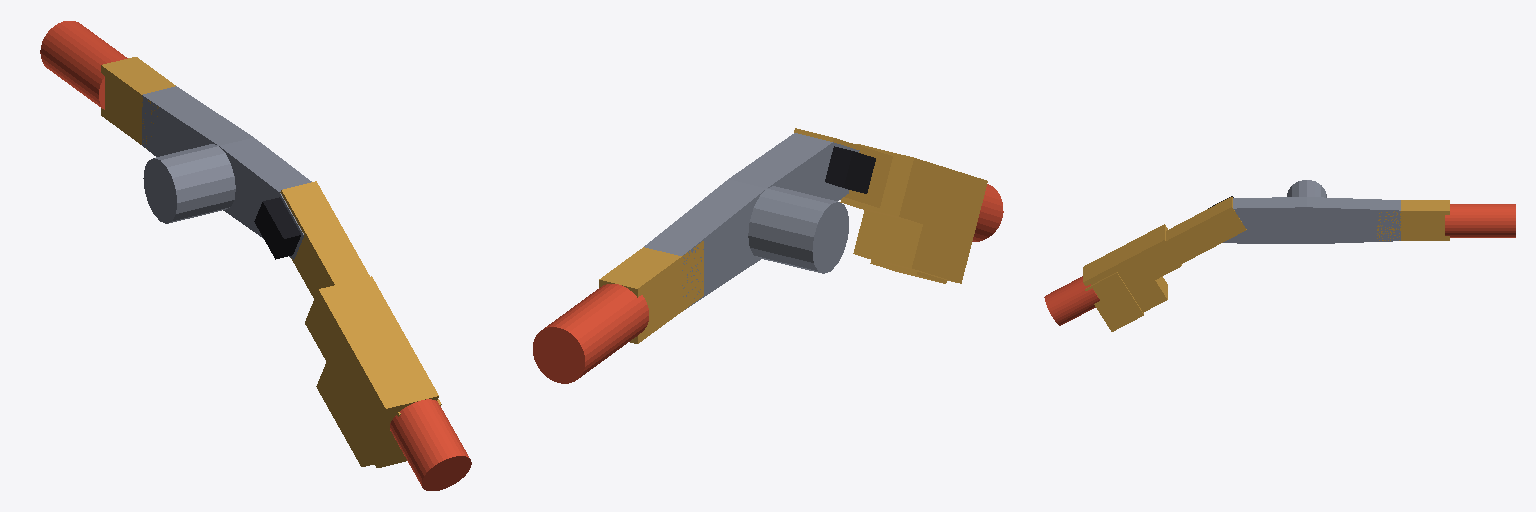
robot.urdf — g0072_c07:
<robot name="g0072_c07">
  <link name="palm">
    <visual name="palm_palm1">
      <origin xyz="0 0 0" rpy="0 0 0" />
      <geometry>
        <mesh filename="palm_palm1.obj" />
      </geometry>
      <material name="palm_palm1_mat">
        <color rgba="0.55 0.57 0.62 1" />
      </material>
    </visual>
    <collision>
      <origin xyz="0 0 0" rpy="0 0 0" />
      <geometry>
        <mesh filename="palm_palm1.obj" />
      </geometry>
    </collision>
    <visual name="palm_mount2">
      <origin xyz="0 0 0" rpy="0 0 0" />
      <geometry>
        <mesh filename="palm_mount2.obj" />
      </geometry>
      <material name="palm_mount2_mat">
        <color rgba="0.55 0.57 0.62 1" />
      </material>
    </visual>
    <collision>
      <origin xyz="0 0 0" rpy="0 0 0" />
      <geometry>
        <mesh filename="palm_mount2.obj" />
      </geometry>
    </collision>
    <visual name="palm_motor3">
      <origin xyz="-0.007 -0.08 0" rpy="3.14159265 0.523598776 -1.57079633" />
      <geometry>
        <box size="0.029 0.034 0.02" />
      </geometry>
      <material name="palm_motor3_mat">
        <color rgba="0.15 0.15 0.17 1" />
      </material>
    </visual>
    <collision>
      <origin xyz="-0.007 -0.08 0" rpy="3.14159265 0.523598776 -1.57079633" />
      <geometry>
        <box size="0.029 0.034 0.02" />
      </geometry>
    </collision>
    <visual name="palm_motor4">
      <origin xyz="0 0.0725 -4.5924255e-19" rpy="-3.14159265 1.57079633 0" />
      <geometry>
        <box size="0.029 0.034 0.02" />
      </geometry>
      <material name="palm_motor4_mat">
        <color rgba="0.15 0.15 0.17 1" />
      </material>
    </visual>
    <collision>
      <origin xyz="0 0.0725 -4.5924255e-19" rpy="-3.14159265 1.57079633 0" />
      <geometry>
        <box size="0.029 0.034 0.02" />
      </geometry>
    </collision>
    <inertial>
      <origin xyz="2.1539686e-19 -0.0013349257 -0.000271372644" rpy="1.57079633 -0.00835518962 1.57079633" />
      <mass value="0.286739644" />
      <inertia ixx="4.65592608e-05" ixy="0" ixz="0" iyy="0.000786914975" iyz="0" izz="0.00080594723" />
    </inertial>
  </link>
  <link name="f0_link0">
    <visual name="f0_link0_link1">
      <origin xyz="0.0315 0 0" rpy="0 -3.98552134e-18 0" />
      <geometry>
        <box size="0.096 0.024 0.029" />
      </geometry>
      <material name="f0_link0_link1_mat">
        <color rgba="0.80 0.62 0.30 1" />
      </material>
    </visual>
    <collision>
      <origin xyz="0.0315 0 0" rpy="0 -3.98552134e-18 0" />
      <geometry>
        <box size="0.096 0.024 0.029" />
      </geometry>
    </collision>
    <inertial>
      <origin xyz="0.0315 0 0" rpy="0 0 0" />
      <mass value="0.116928" />
      <inertia ixx="1.3807248e-05" ixy="0" ixz="0" iyy="9.7995408e-05" iyz="0" izz="9.5413248e-05" />
    </inertial>
  </link>
  <link name="f0_link1">
    <visual name="f0_link1_link1">
      <origin xyz="0.014 -0.00625 -6.9388939e-18" rpy="0 -3.98552134e-18 0" />
      <geometry>
        <box size="0.052 0.0365 0.033" />
      </geometry>
      <material name="f0_link1_link1_mat">
        <color rgba="0.80 0.62 0.30 1" />
      </material>
    </visual>
    <collision>
      <origin xyz="0.014 -0.00625 -6.9388939e-18" rpy="0 -3.98552134e-18 0" />
      <geometry>
        <box size="0.052 0.0365 0.033" />
      </geometry>
    </collision>
    <inertial>
      <origin xyz="0.014 -0.00625 0" rpy="0 0 0" />
      <mass value="0.1096095" />
      <inertia ixx="2.21160002e-05" ixy="0" ixz="0" iyy="3.46457361e-05" iyz="0" izz="3.6867612e-05" />
    </inertial>
  </link>
  <link name="f0_link2">
    <visual name="f0_link2_link1">
      <origin xyz="0.019 -0.00625 -0.01225" rpy="0 -3.98552134e-18 0" />
      <geometry>
        <box size="0.062 0.0365 0.0575" />
      </geometry>
      <material name="f0_link2_link1_mat">
        <color rgba="0.80 0.62 0.30 1" />
      </material>
    </visual>
    <collision>
      <origin xyz="0.019 -0.00625 -0.01225" rpy="0 -3.98552134e-18 0" />
      <geometry>
        <box size="0.062 0.0365 0.0575" />
      </geometry>
    </collision>
    <inertial>
      <origin xyz="0.019 -0.00625 -0.01225" rpy="0 0 0" />
      <mass value="0.227714375" />
      <inertia ixx="8.8021094e-05" ixy="0" ixz="0" iyy="0.000135684559" iyz="0" izz="9.82255445e-05" />
    </inertial>
  </link>
  <link name="f0_link3">
    <visual name="f0_link3_link1">
      <origin xyz="-0.00625 0 -0.0165" rpy="0 -3.98552134e-18 0" />
      <geometry>
        <box size="0.0365 0.029 0.053" />
      </geometry>
      <material name="f0_link3_link1_mat">
        <color rgba="0.80 0.62 0.30 1" />
      </material>
    </visual>
    <collision>
      <origin xyz="-0.00625 0 -0.0165" rpy="0 -3.98552134e-18 0" />
      <geometry>
        <box size="0.0365 0.029 0.053" />
      </geometry>
    </collision>
    <inertial>
      <origin xyz="-0.00625 0 -0.0165" rpy="0 0 0" />
      <mass value="0.098175875" />
      <inertia ixx="2.98618286e-05" ixy="0" ixz="0" iyy="3.38809035e-05" iyz="0" izz="1.778006e-05" />
    </inertial>
  </link>
  <link name="f0_link4">
    <visual name="f0_link4_link1">
      <origin xyz="0.029 0 3.46944695e-18" rpy="-1.57079633 -0 -1.57079633" />
      <geometry>
        <cylinder radius="0.0165" length="0.049" />
      </geometry>
      <material name="f0_link4_link1_mat">
        <color rgba="0.85 0.35 0.25 1" />
      </material>
    </visual>
    <collision>
      <origin xyz="0.029 0 3.46944695e-18" rpy="-1.57079633 -0 -1.57079633" />
      <geometry>
        <cylinder radius="0.0165" length="0.049" />
      </geometry>
    </collision>
    <inertial>
      <origin xyz="0.029 0 0" rpy="0 0 0" />
      <mass value="0.106270851" />
      <inertia ixx="1.35696277e-05" ixy="0" ixz="0" iyy="5.30015704e-05" iyz="0" izz="5.30015704e-05" />
    </inertial>
  </link>
  <link name="f1_link0">
    <visual name="f1_link0_link1">
      <origin xyz="0.02375 0 7.70371978e-34" rpy="0 -0 0" />
      <geometry>
        <box size="0.0715 0.024 0.033" />
      </geometry>
      <material name="f1_link0_link1_mat">
        <color rgba="0.80 0.62 0.30 1" />
      </material>
    </visual>
    <collision>
      <origin xyz="0.02375 0 7.70371978e-34" rpy="0 -0 0" />
      <geometry>
        <box size="0.0715 0.024 0.033" />
      </geometry>
    </collision>
    <inertial>
      <origin xyz="0.02375 0 0" rpy="0 0 0" />
      <mass value="0.099099" />
      <inertia ixx="1.37499863e-05" ixy="0" ixz="0" iyy="5.12114728e-05" iyz="0" izz="4.69749906e-05" />
    </inertial>
  </link>
  <link name="f1_link1">
    <visual name="f1_link1_link1">
      <origin xyz="0.039 0 -7.70371978e-34" rpy="-1.57079633 -0 -1.57079633" />
      <geometry>
        <cylinder radius="0.0165" length="0.069" />
      </geometry>
      <material name="f1_link1_link1_mat">
        <color rgba="0.85 0.35 0.25 1" />
      </material>
    </visual>
    <collision>
      <origin xyz="0.039 0 -7.70371978e-34" rpy="-1.57079633 -0 -1.57079633" />
      <geometry>
        <cylinder radius="0.0165" length="0.069" />
      </geometry>
    </collision>
    <inertial>
      <origin xyz="0.039 0 0" rpy="0 0 0" />
      <mass value="0.136206302" />
      <inertia ixx="1.76445909e-05" ixy="0" ixz="0" iyy="0.000104842911" iyz="0" izz="0.000104842911" />
    </inertial>
  </link>
  <joint name="f0_j0" type="revolute">
    <parent link="palm" />
    <child link="f0_link0" />
    <origin xyz="0.0005 -0.08 0" rpy="0 0.523598776 -1.57079633" />
    <axis xyz="1 0 6.123234e-17" />
    <limit effort="0.5" lower="-1.57079633" upper="1.57079633" velocity="5" />
    <dynamics damping="0.0775033" friction="0" />
  </joint>
  <joint name="f0_j1" type="revolute">
    <parent link="f0_link0" />
    <child link="f0_link1" />
    <origin xyz="0.07 0 0" rpy="0 0 0" />
    <axis xyz="0 0 1" />
    <limit effort="0.5" lower="-0.523598776" upper="1.57079633" velocity="5" />
    <dynamics damping="0.0775033" friction="0" />
  </joint>
  <joint name="f0_j2" type="revolute">
    <parent link="f0_link1" />
    <child link="f0_link2" />
    <origin xyz="0.03 0 0" rpy="0 0 0" />
    <axis xyz="0 0 1" />
    <limit effort="0.5" lower="-0.523598776" upper="1.57079633" velocity="5" />
    <dynamics damping="0.0775033" friction="0" />
  </joint>
  <joint name="f0_j3" type="revolute">
    <parent link="f0_link2" />
    <child link="f0_link3" />
    <origin xyz="0.04 0 0" rpy="0 0 0" />
    <axis xyz="0 0 1" />
    <limit effort="0.5" lower="-0.523598776" upper="1.57079633" velocity="5" />
    <dynamics damping="0.0775033" friction="0" />
  </joint>
  <joint name="f0_j4" type="revolute">
    <parent link="f0_link3" />
    <child link="f0_link4" />
    <origin xyz="0 0 0" rpy="0 0 0" />
    <axis xyz="0 1 6.123234e-17" />
    <limit effort="0.5" lower="-0.523598776" upper="0.523598776" velocity="5" />
    <dynamics damping="0.0775033" friction="0" />
  </joint>
  <joint name="f1_j0" type="revolute">
    <parent link="palm" />
    <child link="f1_link0" />
    <origin xyz="0 0.08 0" rpy="-3.14159265 -6.123234e-17 1.57079633" />
    <axis xyz="0 0 1" />
    <limit effort="0.5" lower="-0.523598776" upper="1.57079633" velocity="5" />
    <dynamics damping="0.0775033" friction="0" />
  </joint>
  <joint name="f1_j1" type="revolute">
    <parent link="f1_link0" />
    <child link="f1_link1" />
    <origin xyz="0.05 0 0" rpy="0 0 0" />
    <axis xyz="0 0 1" />
    <limit effort="0.5" lower="-0.523598776" upper="1.57079633" velocity="5" />
    <dynamics damping="0.0775033" friction="0" />
  </joint>
</robot>

--- What the picture shows (computed from the rendered views, not written in the file) ---
Views: 3 orthographic renders of the robot side by side, from view 1: azimuth 30°, elevation 25°; view 2: azimuth 150°, elevation 25°; view 3: azimuth 270°, elevation 25°.
Robot: g0072_c07 — 8 links, 7 joints (7 revolute); root link palm; default pose: all joints at 0.
Visible links, largest first — view 1: palm, f0_link2, f0_link0, f0_link1, f0_link4, f1_link1, f1_link0, f0_link3; view 2: palm, f0_link2, f1_link1, f1_link0, f0_link1, f0_link0, f0_link4; view 3: palm, f0_link0, f1_link1, f0_link2, f1_link0, f0_link3, f0_link1, f0_link4.
Boxes of the visible links, left/top/right/bottom form: palm: left=142, top=86, right=311, bottom=259; f0_link2: left=316, top=315, right=438, bottom=466; f0_link0: left=280, top=181, right=369, bottom=298; f0_link1: left=305, top=276, right=409, bottom=389; f0_link4: left=390, top=399, right=471, bottom=490; f1_link1: left=40, top=21, right=127, bottom=109; f1_link0: left=101, top=57, right=175, bottom=148; f0_link3: left=374, top=399, right=441, bottom=467; palm: left=644, top=133, right=875, bottom=309; f0_link2: left=853, top=165, right=987, bottom=283; f1_link1: left=533, top=284, right=648, bottom=383; f1_link0: left=599, top=241, right=703, bottom=343; f0_link1: left=840, top=144, right=955, bottom=229; f0_link0: left=794, top=128, right=892, bottom=207; f0_link4: left=972, top=184, right=1003, bottom=241; palm: left=1208, top=180, right=1400, bottom=243; f0_link0: left=1148, top=197, right=1246, bottom=273; f1_link1: left=1445, top=204, right=1515, bottom=237; f0_link2: left=1083, top=245, right=1167, bottom=312; f1_link0: left=1377, top=200, right=1449, bottom=240; f0_link3: left=1085, top=272, right=1143, bottom=331; f0_link1: left=1119, top=224, right=1181, bottom=287; f0_link4: left=1044, top=276, right=1099, bottom=325.
Bounding box of the posed robot: 0.069 × 0.4593 × 0.134 m (x, y, z).
2 mesh visuals loaded from 2 distinct referenced files (2 OBJ).
